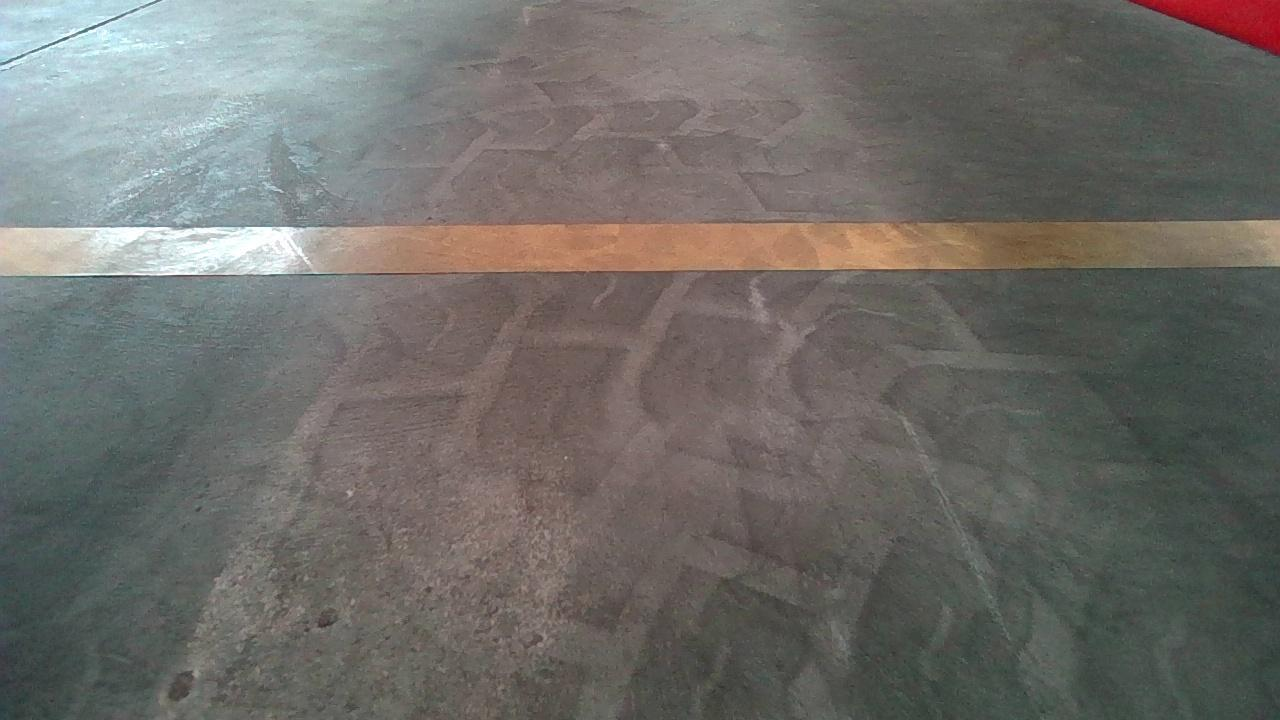yellow_line: (14, 211, 1280, 273)
